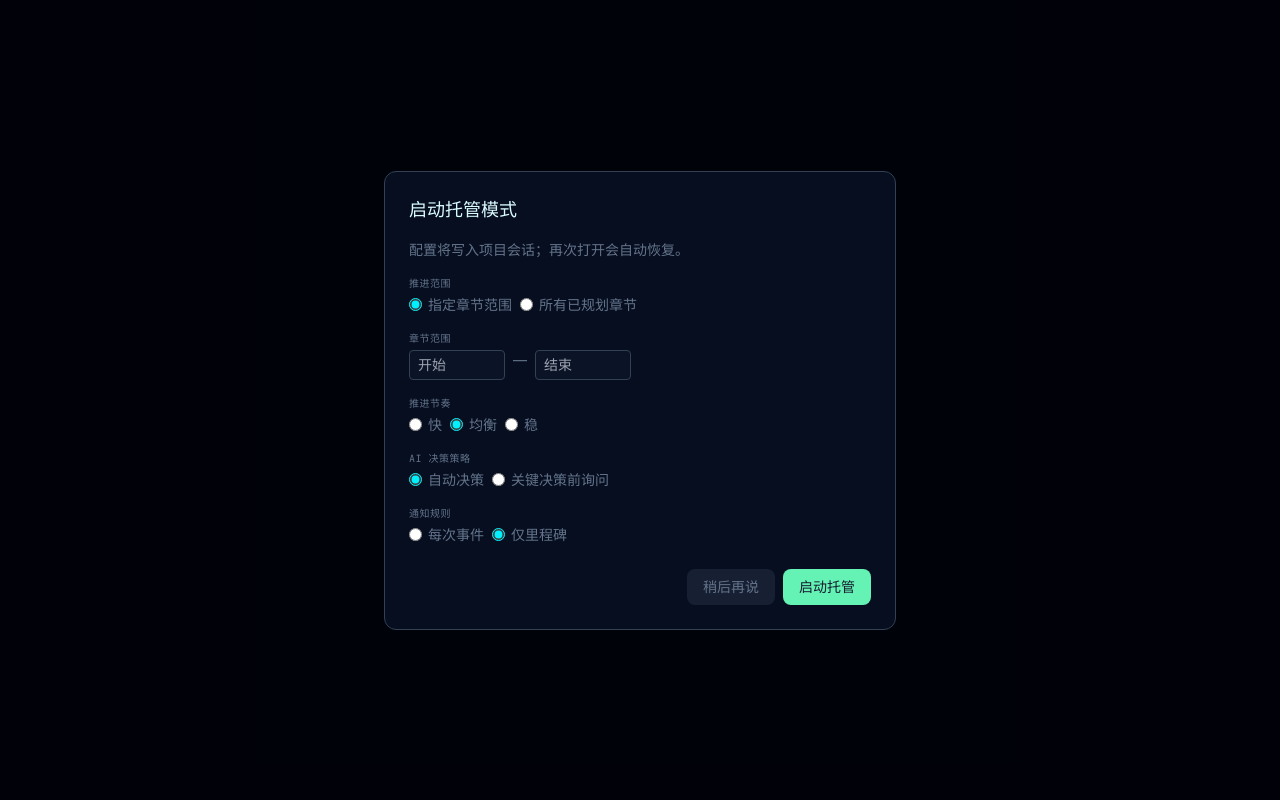
ManagedStartModal — range scope › all_planned with completed chapters also shows regen warning + confirmation
The image size is (1280, 800).
Click the radio button showing "all_planned" at (526,304), box [520, 298, 533, 311]
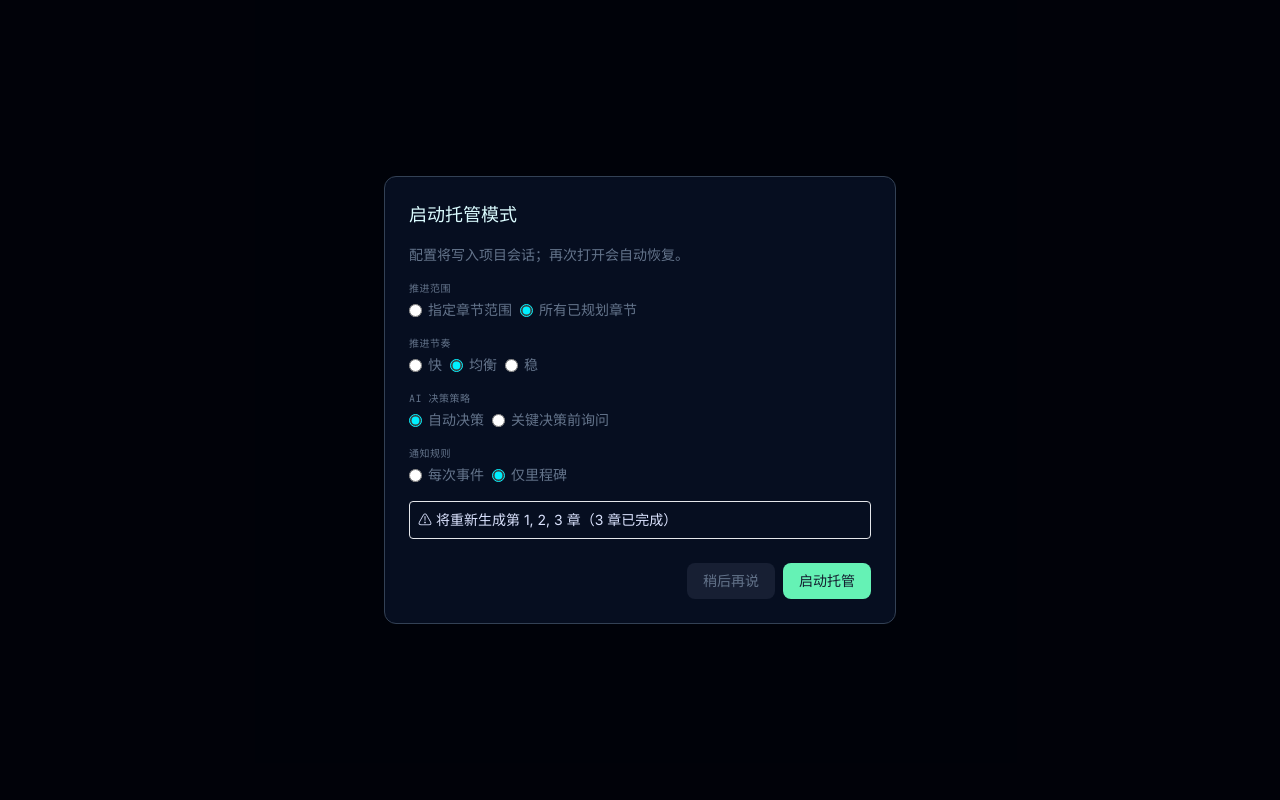
Expected: the text "⚠ 将重新生成第 1, 2, 3 章（3 章已完成）" is shown, [409, 501, 871, 539]
